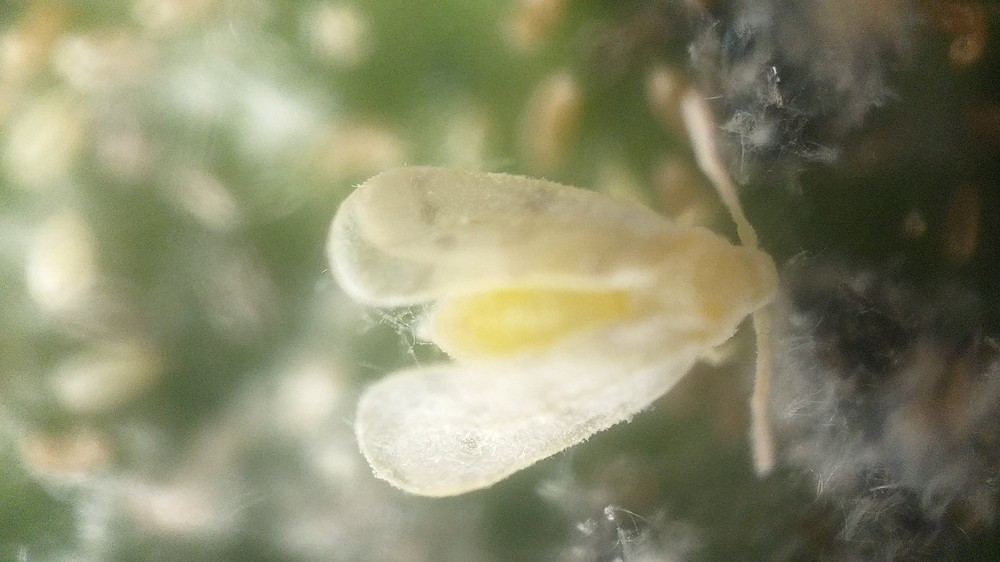Mosca Blanca: (303, 83, 795, 527)
